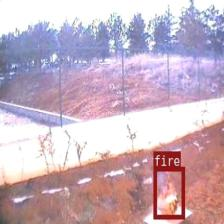fire: (153, 166, 184, 218)
